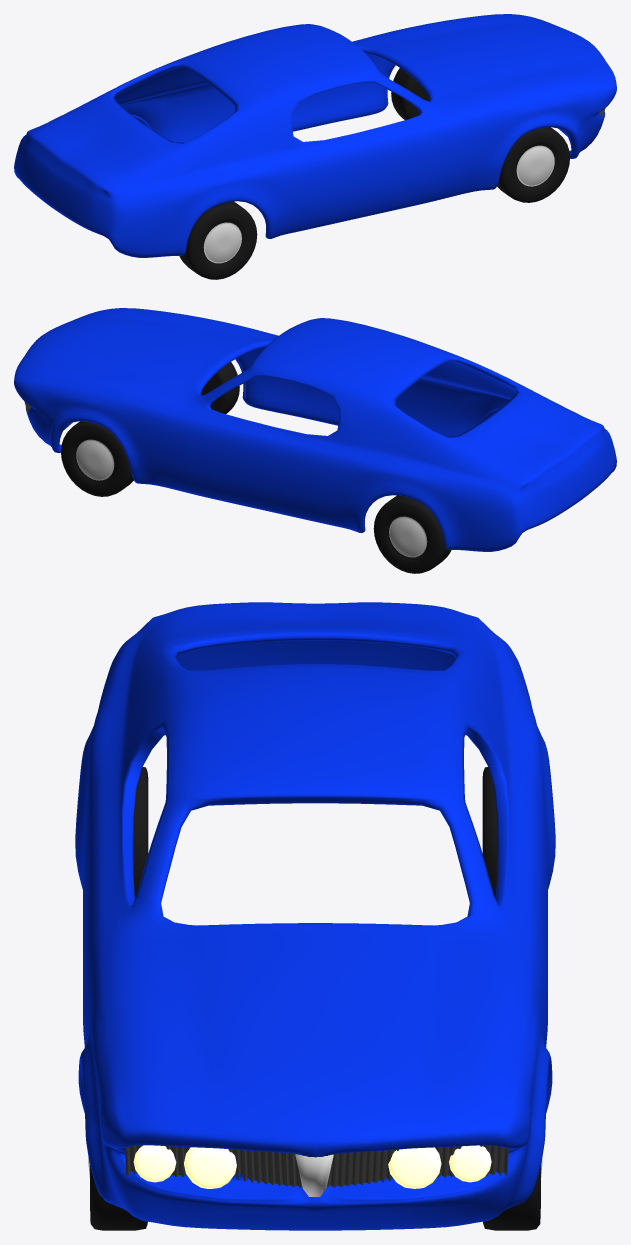
The model's file is Mustang_Foundation_7_EXPORT_3.glb.
3 renders of one model, top to bottom at view 1: azimuth 30°, elevation 25°; view 2: azimuth 150°, elevation 25°; view 3: azimuth 270°, elevation 25°, orthographic. The views are drawn at different scales.
Visible parts, largest first — view 1: Body, Wheel_RL, Wheel_FL, Wheel_FR; view 2: Body, Wheel_RR, Wheel_FR, Wheel_FL; view 3: Body, Grill, Headlights, Wheel_RR, Wheel_RL, Wheel_FL, Wheel_FR.
Boxes of the visible parts, <box> form: Body: <box>14,14,616,257</box>; Wheel_RL: <box>179,201,257,279</box>; Wheel_FL: <box>497,127,569,202</box>; Wheel_FR: <box>391,68,429,119</box>; Body: <box>14,308,616,551</box>; Wheel_RR: <box>373,495,451,573</box>; Wheel_FR: <box>61,421,133,496</box>; Wheel_FL: <box>201,362,239,413</box>; Body: <box>75,602,555,1230</box>; Grill: <box>125,1145,508,1196</box>; Headlights: <box>133,1145,491,1188</box>; Wheel_RR: <box>482,767,497,898</box>; Wheel_RL: <box>133,767,148,898</box>; Wheel_FL: <box>88,1157,147,1230</box>; Wheel_FR: <box>483,1158,542,1230</box>.
Bounding box in the file's own units: 4.7 × 1.31 × 1.81.
